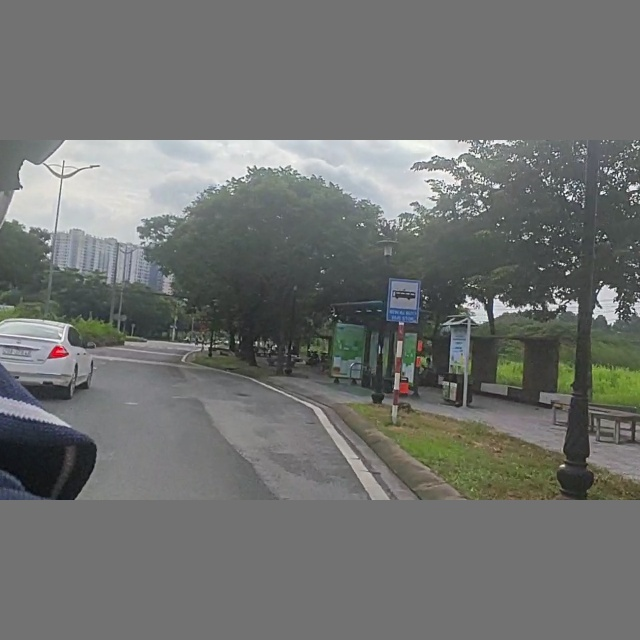I.434a: (383, 272, 428, 329)
